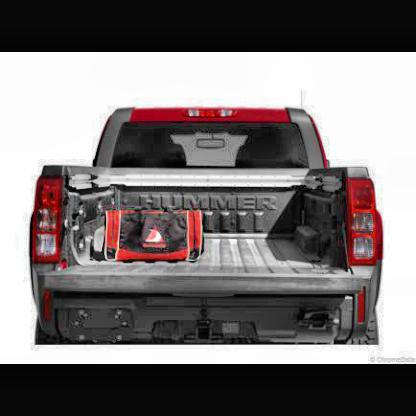HUMMER H3T Crew Cab 2010: (30, 107, 384, 348)
